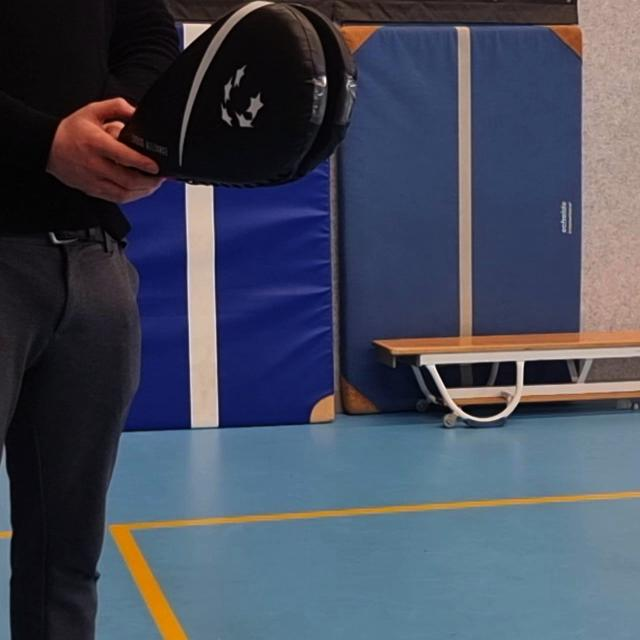paddle: (99, 0, 357, 187)
